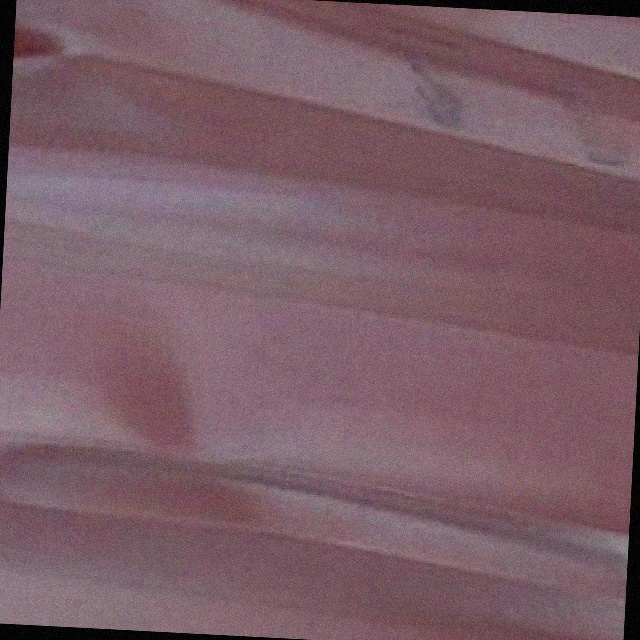Dent: (1, 370, 637, 629)
